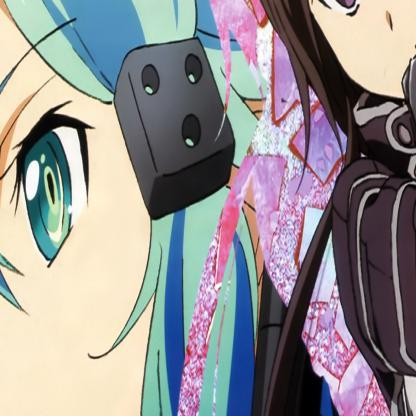gun: (385, 20, 416, 334)
